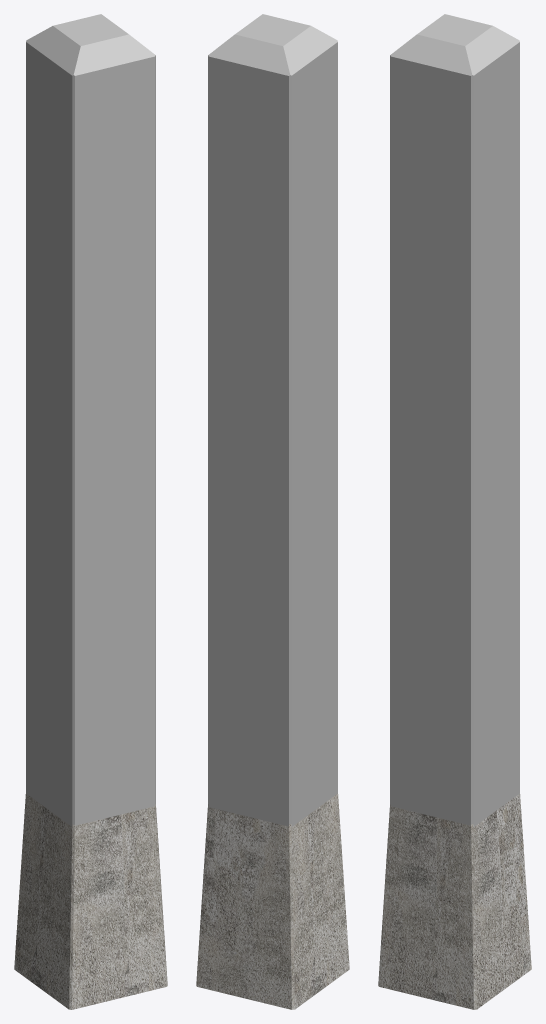
File: SM_DG_PillarB.fbx
3 renders of one model, left to right at view 1: azimuth 30°, elevation 25°; view 2: azimuth 150°, elevation 25°; view 3: azimuth 330°, elevation 25°, orthographic.
Parts seen in each view (by area): view 1: SM_DG_PillarB_ConvexHulls, SM_DG_PillarB; view 2: SM_DG_PillarB_ConvexHulls, SM_DG_PillarB; view 3: SM_DG_PillarB_ConvexHulls, SM_DG_PillarB.
Boxes of the visible parts, bbox=[...] form: SM_DG_PillarB_ConvexHulls: bbox=[26, 14, 155, 826]; SM_DG_PillarB: bbox=[14, 793, 167, 1009]; SM_DG_PillarB_ConvexHulls: bbox=[208, 14, 337, 826]; SM_DG_PillarB: bbox=[196, 793, 349, 1009]; SM_DG_PillarB_ConvexHulls: bbox=[390, 14, 519, 826]; SM_DG_PillarB: bbox=[378, 793, 531, 1009].
Bounding box in the file's own units: 43.25 × 43.25 × 397.
Materials: 2 (1 with a texture image).
